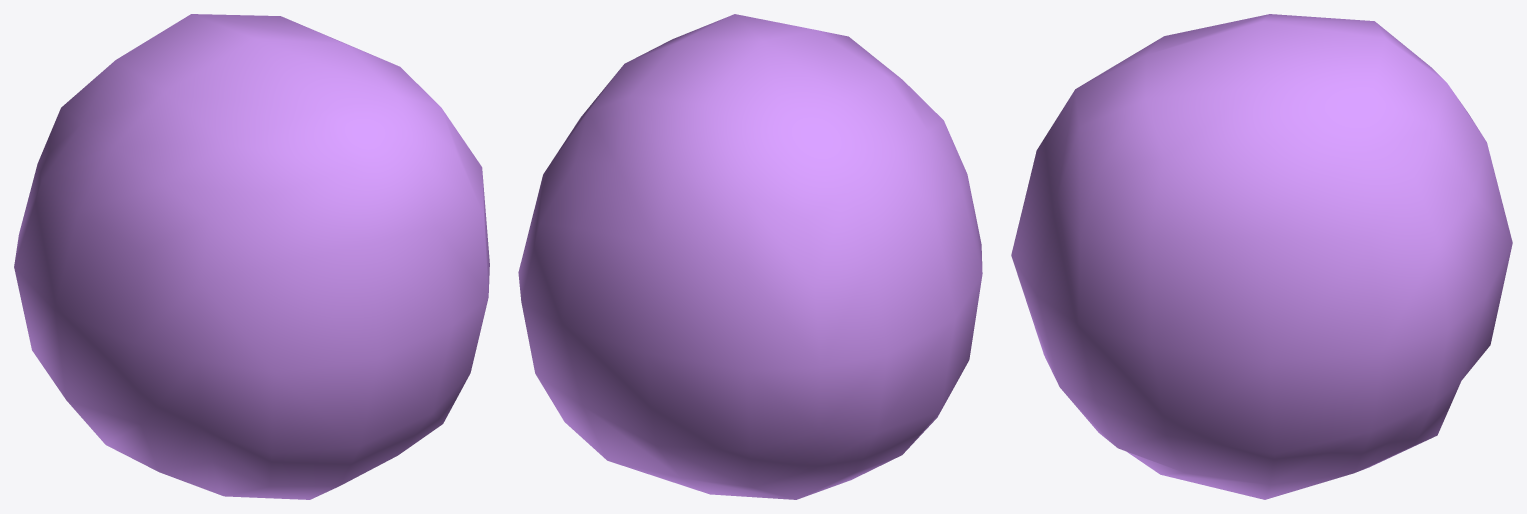
Rendered from peroxisome.fbx.
3 views of the same model, side by side, from view 1: azimuth 30°, elevation 25°; view 2: azimuth 150°, elevation 25°; view 3: azimuth 270°, elevation 25° (orthographic).
Parts seen in each view (by area): view 1: Peroxisome_1; view 2: Peroxisome_1; view 3: Peroxisome_1.
Part boxes in pixels (x1,y1,x2,y2): Peroxisome_1: (14,14,489,499); Peroxisome_1: (518,14,982,499); Peroxisome_1: (1011,14,1512,499).
Bounding box in the file's own units: 107 × 111 × 113.
